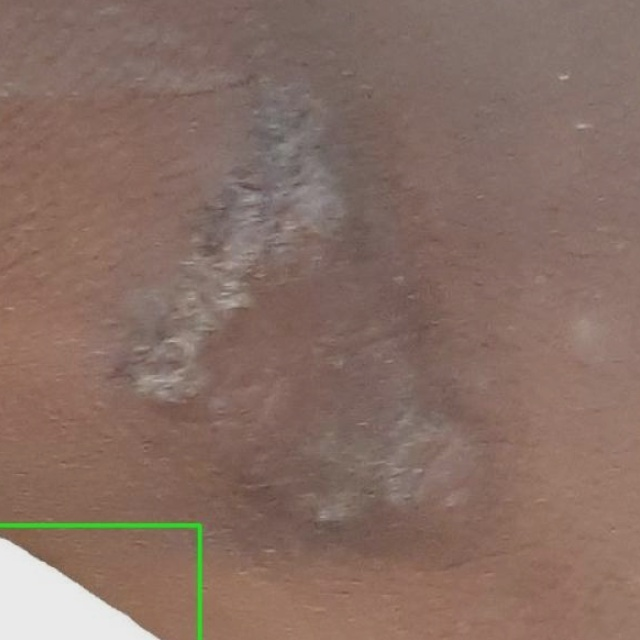Contact Dermatitis: (0, 525, 199, 639)
